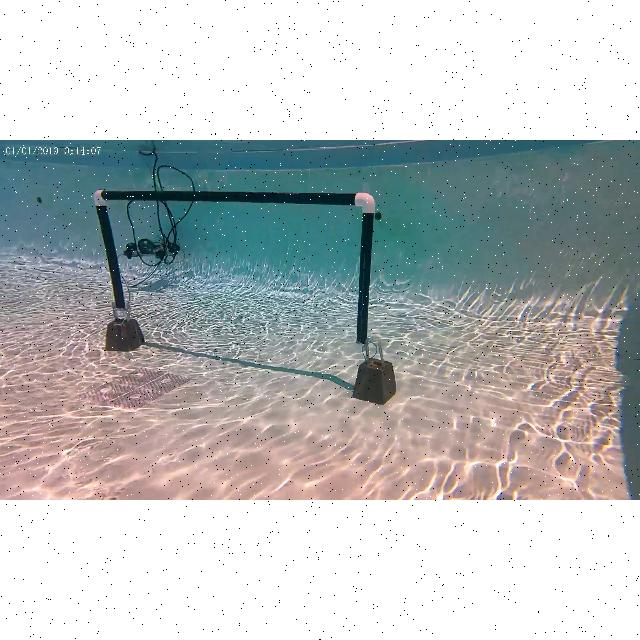prequal gate: (92, 188, 376, 346)
prequal gate leg l: (85, 188, 145, 352)
prequal gate leg r: (349, 191, 399, 405)
